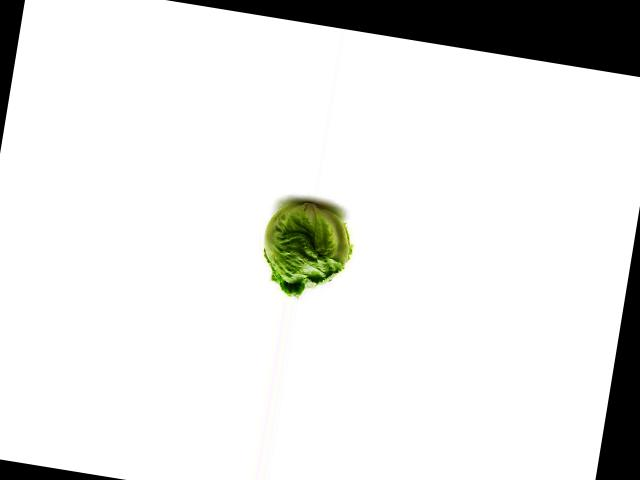lettuce: (252, 191, 367, 306)
